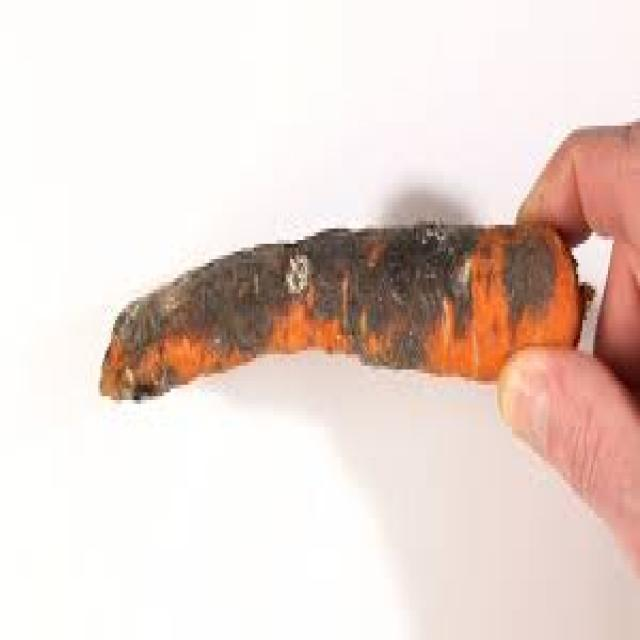Stale_Carrot: (100, 223, 585, 398)
